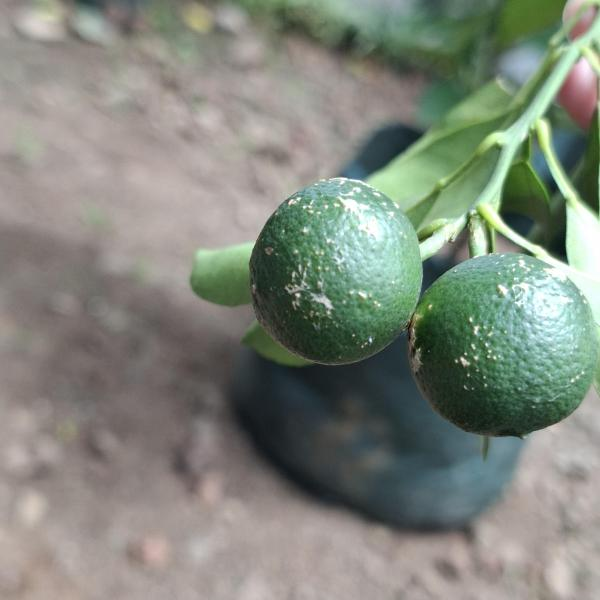Scab: (398, 230, 597, 456), (238, 167, 432, 382)
